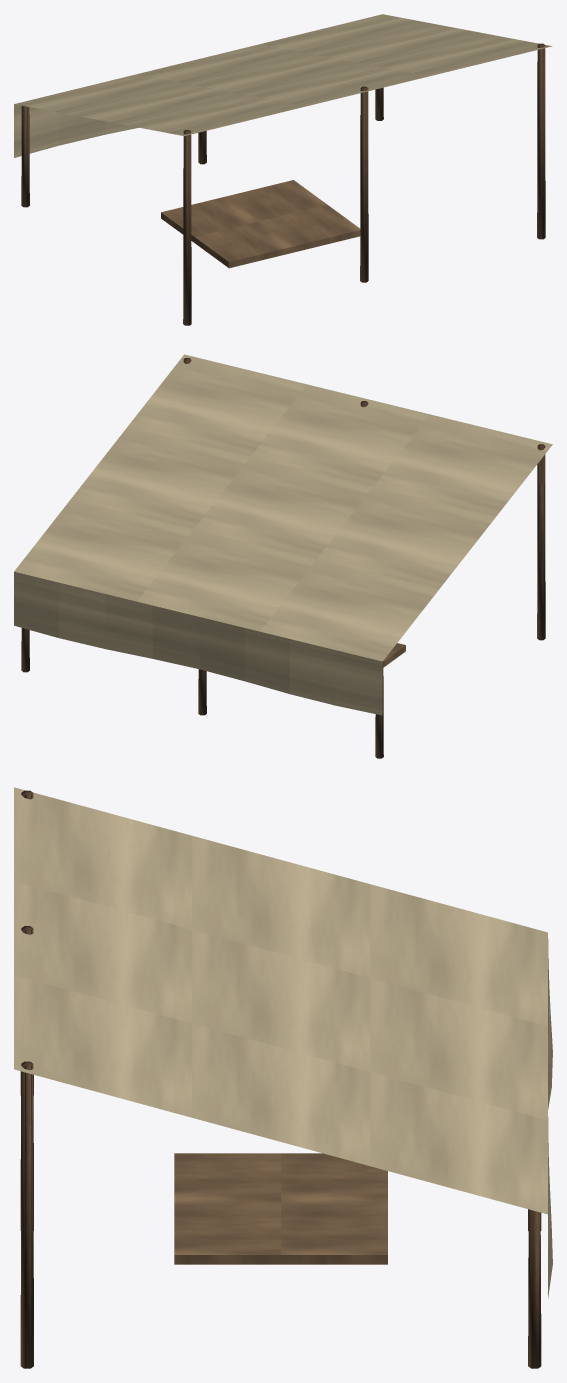
File: Tent_Awning_1.gltf
3 renders of one model, top to bottom at view 1: azimuth 30°, elevation 25°; view 2: azimuth 150°, elevation 25°; view 3: azimuth 270°, elevation 25°, orthographic. The views are drawn at different scales.
Parts seen in each view (by area): view 1: Tent_Awning_1; view 2: Tent_Awning_1; view 3: Tent_Awning_1.
Boxes of the visible parts, <box> form: Tent_Awning_1: <box>14,14,552,325</box>; Tent_Awning_1: <box>14,354,552,758</box>; Tent_Awning_1: <box>14,787,552,1368</box>.
Bounding box in the file's own units: 5 × 2.5 × 4.04.
Materials: 3 (3 with a texture image).
